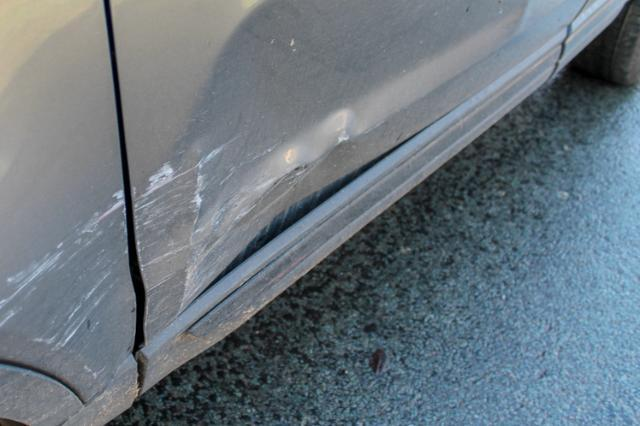Door: (124, 158, 277, 330)
Fender: (4, 217, 130, 394)
